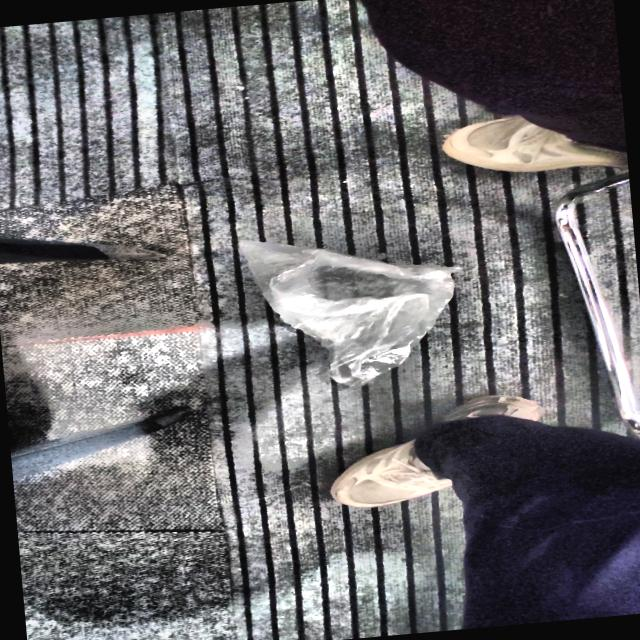plastic bag: (240, 241, 457, 386)
